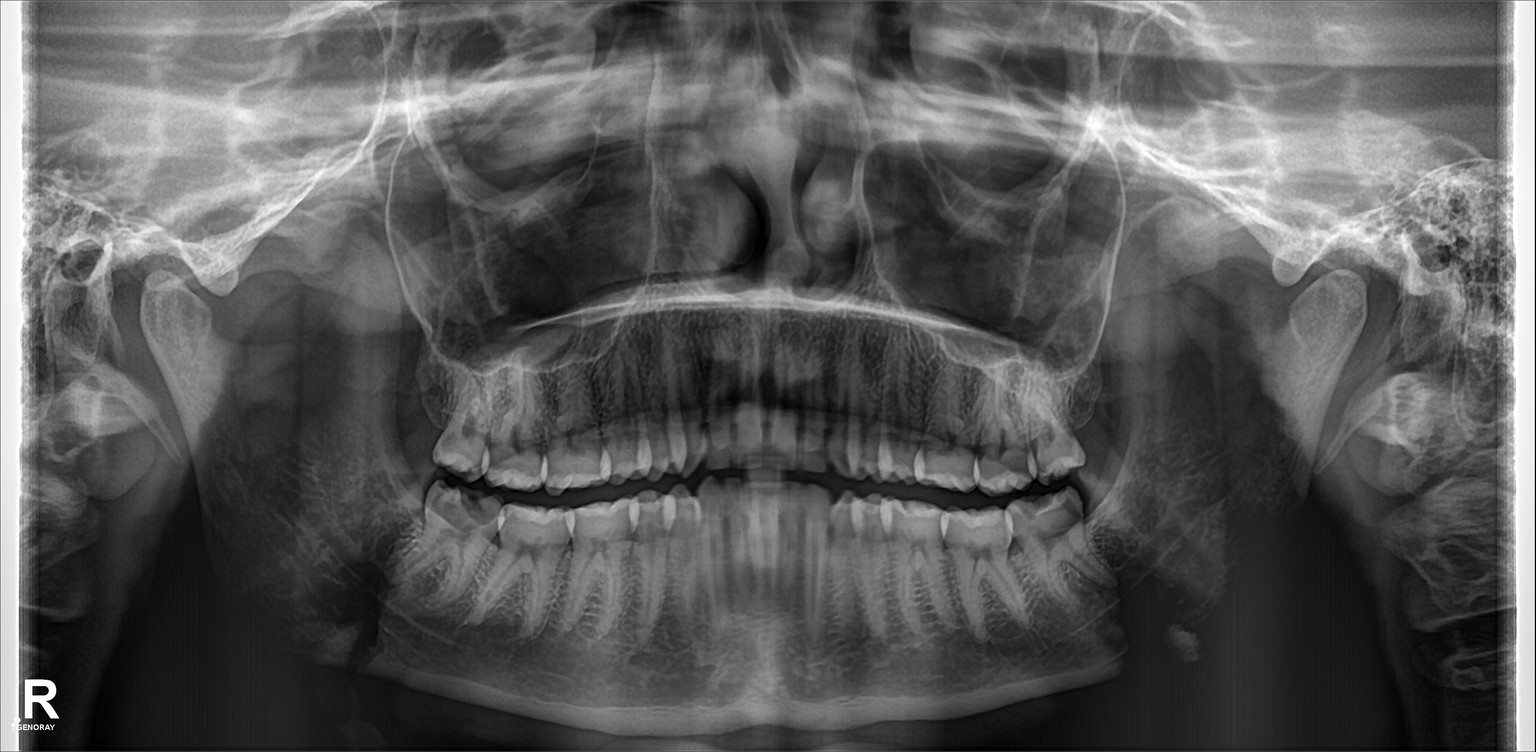Dental Caries: (439, 490, 505, 532)
Missing Tooth: (1070, 367, 1123, 474), (402, 367, 441, 474)
